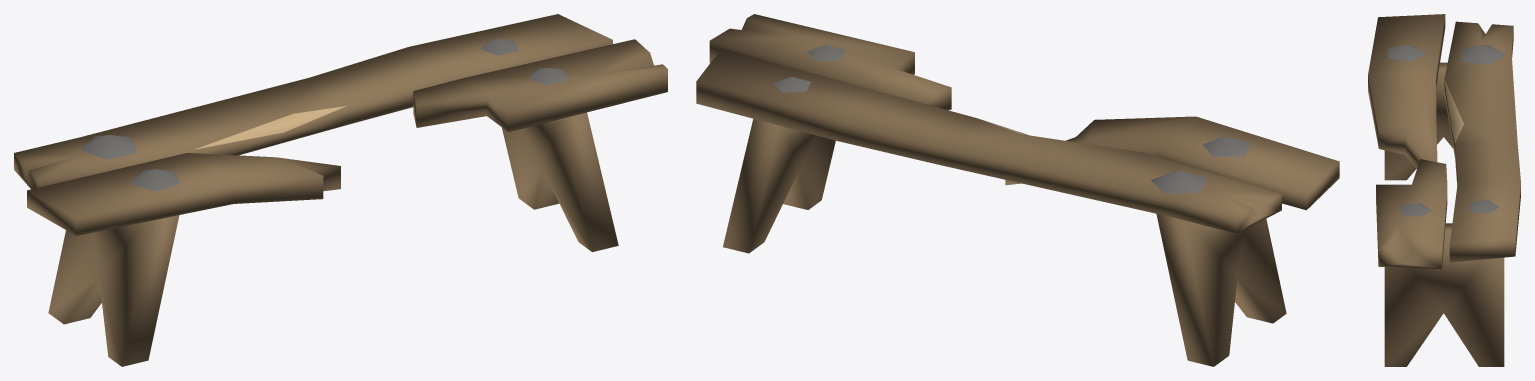
File: rpgpp_av_bench_wood_02a.gltf
The picture shows the model from 3 angles, left to right: view 1: azimuth 30°, elevation 25°; view 2: azimuth 150°, elevation 25°; view 3: azimuth 270°, elevation 25°; orthographic projection. The views are drawn at different scales.
Parts seen in each view (by area): view 1: rpgpp_av_bench_wood_02a; view 2: rpgpp_av_bench_wood_02a; view 3: rpgpp_av_bench_wood_02a.
Boxes of the visible parts, x1,y1,x2,y2 form: rpgpp_av_bench_wood_02a: [14, 14, 667, 366]; rpgpp_av_bench_wood_02a: [696, 14, 1339, 366]; rpgpp_av_bench_wood_02a: [1368, 14, 1520, 366].
Size of the model in its own units: 0.0156 by 0.00435 by 0.00419.
Materials: 1 (1 with a texture image).
